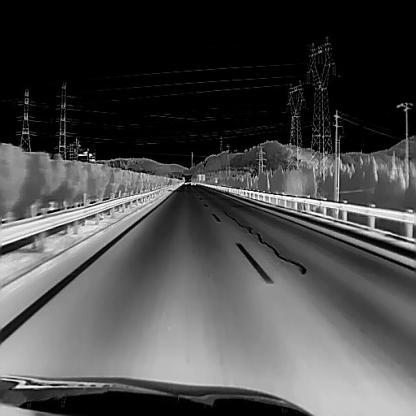car: (191, 174, 196, 184)
